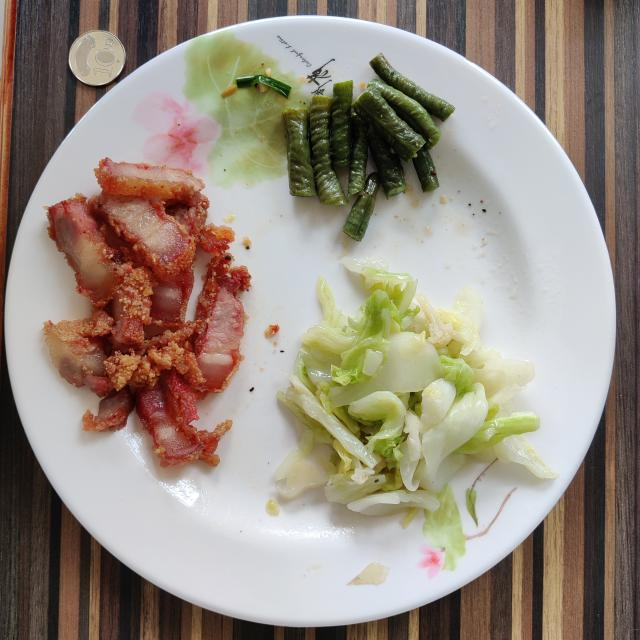cabbage: (276, 259, 558, 514)
coin: (69, 30, 126, 86)
red grilled pork: (44, 159, 249, 466)
